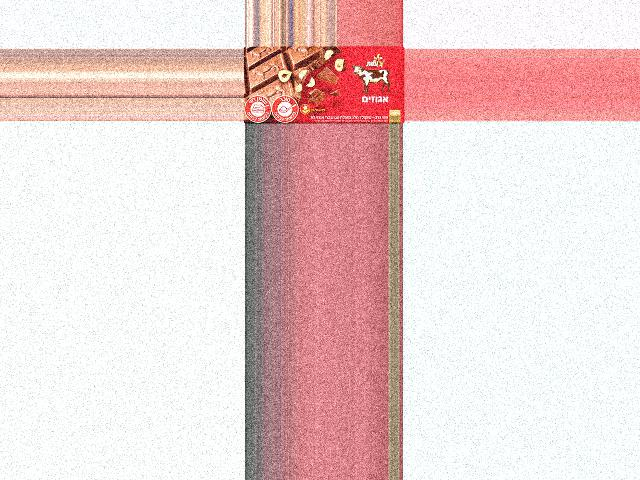chocolate: (244, 47, 405, 121)
